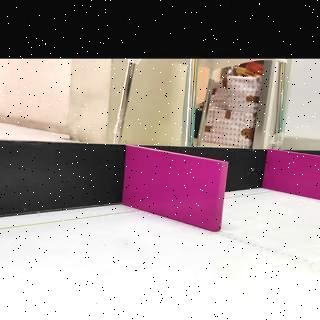xparking: (131, 162, 221, 216), (269, 157, 320, 193)
